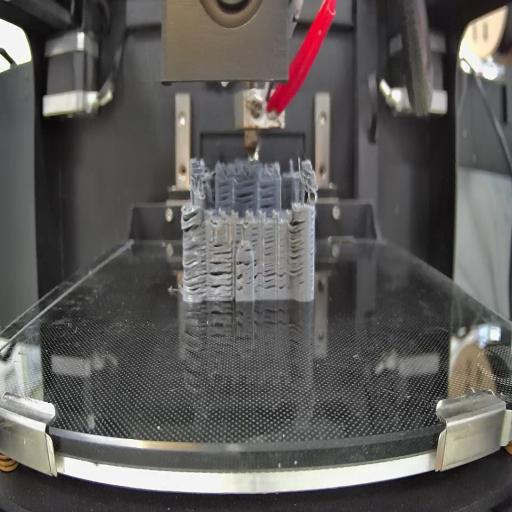cracks: (182, 240, 208, 296), (290, 217, 306, 279), (210, 260, 233, 298), (264, 265, 288, 291), (260, 180, 278, 214), (236, 179, 255, 211), (180, 208, 202, 232), (218, 180, 232, 208), (251, 257, 262, 292), (212, 241, 232, 258), (265, 224, 274, 255), (236, 274, 246, 292), (236, 222, 244, 244), (250, 225, 259, 242), (236, 258, 251, 268), (245, 248, 254, 253)
